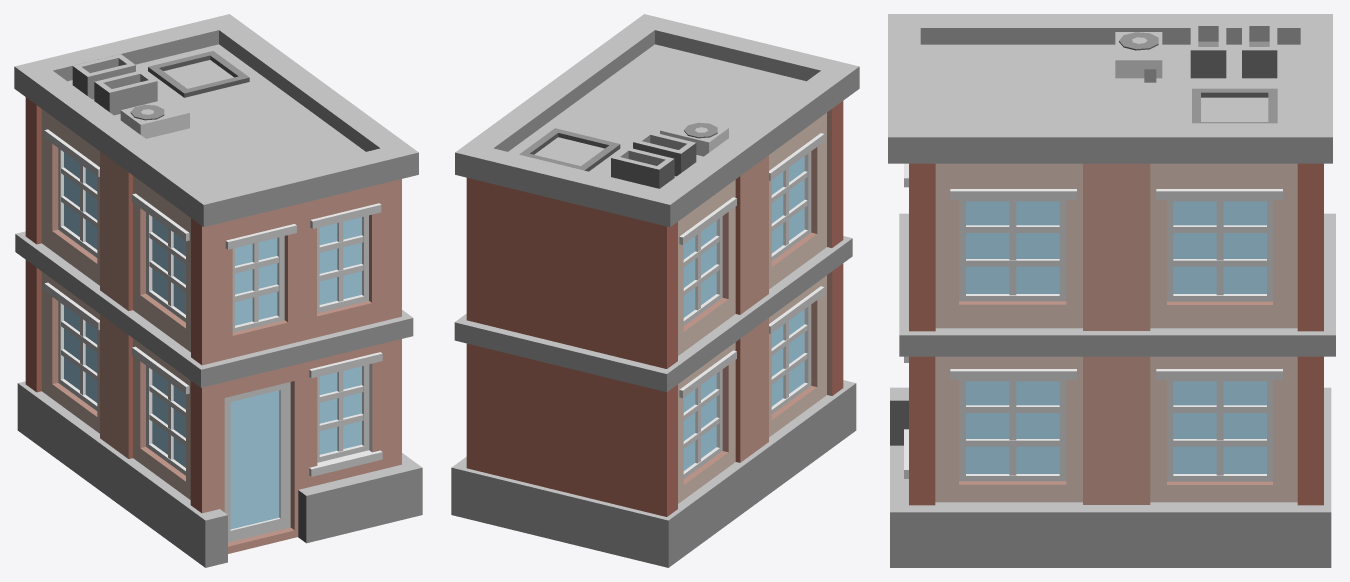
File: house_small_1_006.fbx
The picture shows the model from 3 angles, left to right: view 1: azimuth 30°, elevation 25°; view 2: azimuth 150°, elevation 25°; view 3: azimuth 270°, elevation 25°; orthographic projection. The views are drawn at different scales.
Parts seen in each view (by area): view 1: house_small_1_006; view 2: house_small_1_006; view 3: house_small_1_006.
Boxes of the visible parts, x1,y1,x2,y2 form: house_small_1_006: [14, 14, 422, 567]; house_small_1_006: [451, 14, 859, 567]; house_small_1_006: [888, 14, 1335, 567].
Bounding box in the file's own units: 369 × 599 × 554.
